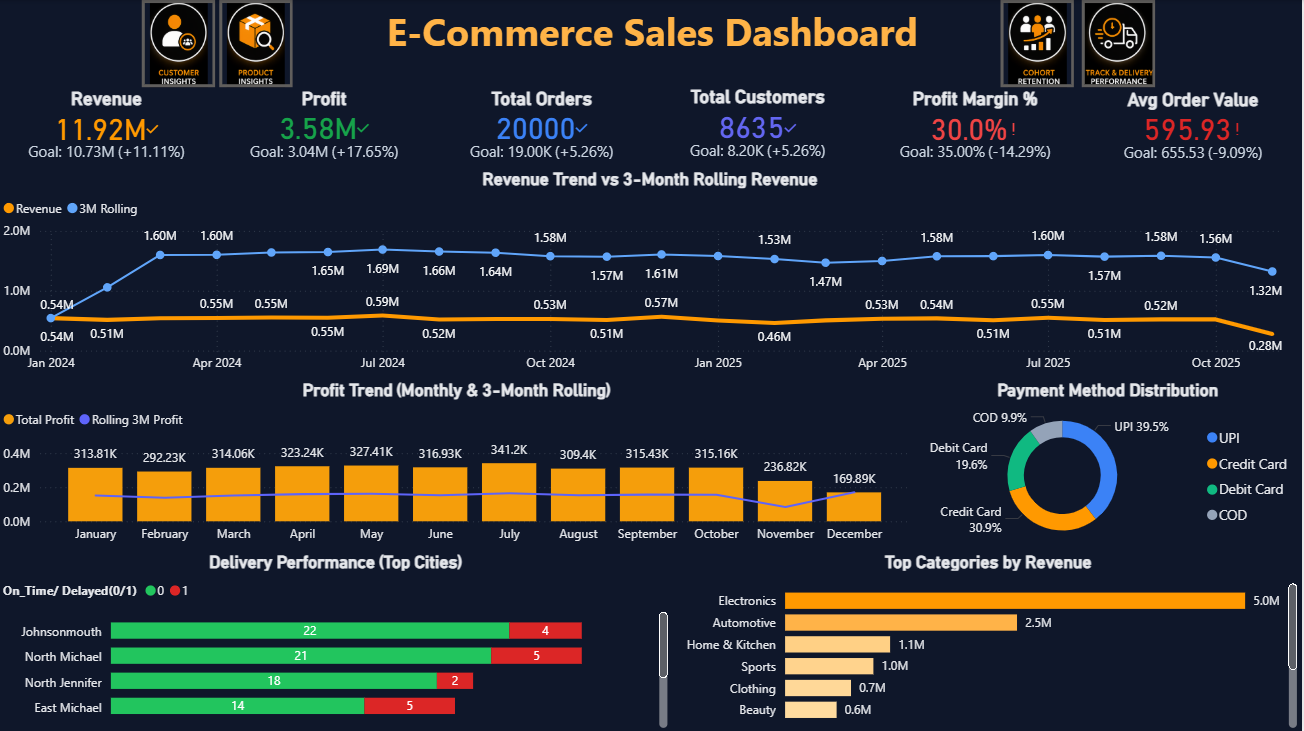

What the dashboard file says about the page in this screenshot:
{"tool":"powerbi","page":{"name":"OVERVIEW / EXECUTIVE SUMMARY","canvas":[1280,720],"ordinal":0},"visuals":[{"type":"kpi","title":"Revenue","fields":{"Goal":["All Measures Table.Revenue Target"],"Indicator":["All Measures Table.Total Revenue"],"TrendLine":["rolling_metrics.order_month"]},"box":[0,85.7,213,79.6],"z":0},{"type":"kpi","title":"Profit","fields":{"Goal":["All Measures Table.Profit Target"],"Indicator":["All Measures Table.Total Profit"],"TrendLine":["rolling_metrics.order_month"]},"box":[213.5,85.7,213.5,78.4],"z":1000},{"type":"kpi","title":"Total Orders","fields":{"Goal":["All Measures Table.Orders Target"],"Indicator":["All Measures Table.Total Orders"],"TrendLine":["rolling_metrics.order_month"]},"box":[427.1,85.7,213.5,78.4],"z":2000},{"type":"kpi","title":"Total Customers","fields":{"Goal":["All Measures Table.Customers Target"],"Indicator":["All Measures Table.Total Customers"],"TrendLine":["rolling_metrics.order_month"]},"box":[639.4,84.5,213,79.6],"z":3000},{"type":"kpi","title":"Profit Margin %","fields":{"Goal":["All Measures Table.Margin Target"],"Indicator":["All Measures Table.Profit Margin %"],"TrendLine":["rolling_metrics.order_month"]},"box":[853,85.7,213,79.6],"z":4000},{"type":"kpi","title":"Avg Order Value","fields":{"Goal":["All Measures Table.AOV Target"],"Indicator":["All Measures Table.Avg Order Value"],"TrendLine":["rolling_metrics.order_month"]},"box":[1066.5,86.9,213.5,78.4],"z":5000},{"type":"lineChart","title":"Revenue Trend vs 3-Month Rolling Revenue","fields":{"Category":["rolling_metrics.order_month"],"Y":["Sum(rolling_metrics.total_revenue)","Sum(rolling_metrics.rolling_3m_revenue)"]},"box":[0,165.3,1280,208.7],"z":6000},{"type":"lineClusteredColumnComboChart","title":"Profit Trend (Monthly & 3-Month Rolling)","fields":{"Category":["fact_sales.order_date.Variation.Date Hierarchy.Month"],"Y":["All Measures Table.Total Profit"],"Y2":["All Measures Table.Rolling 3M Profit"]},"box":[0,372.8,900,168.9],"z":7000},{"type":"donutChart","title":"Payment Method Distribution","fields":{"Category":["fact_sales.payment_method"],"Y":["All Measures Table.Total Revenue"]},"box":[900,372.8,380,168.9],"z":8000},{"type":"barChart","title":"Delivery Performance (Top Cities) ","fields":{"Category":["customer_upgrade.city"],"Series":["fact_sales.delayed"],"Y":["All Measures Table.Total Orders"]},"box":[0,541.7,662.3,178.6],"z":9000},{"type":"clusteredBarChart","title":"Top Categories by Revenue","fields":{"Category":["fact_sales.category"],"Y":["All Measures Table.Total Revenue"]},"box":[663.5,541.7,616.5,178.6],"z":10000},{"type":"textbox","box":[293.2,0,687.7,85.7],"z":11000},{"type":"image","box":[141.2,0,72.4,85.7],"z":14000},{"type":"image","box":[213.5,0,79.6,85.7],"z":15000},{"type":"image","box":[980.8,0,79.6,85.7],"z":16000},{"type":"image","box":[1060.5,0,79.6,85.7],"z":17000},{"type":"actionButton","box":[141.2,0,72.4,85.7],"z":18000},{"type":"actionButton","box":[217.2,0,72.4,85.7],"z":19000},{"type":"actionButton","box":[984.5,0,72.4,85.7],"z":20000},{"type":"actionButton","box":[1064.1,0,72.4,85.7],"z":21000}]}

Visuals, with their boxes in screenshot pixels (x1, y1, x2, y2), scaled from the page's 1280x720 canvas onto the 1304x731 screenshot:
"Revenue" kpi: (left=0, top=87, right=217, bottom=168)
"Profit" kpi: (left=218, top=87, right=435, bottom=167)
"Total Orders" kpi: (left=435, top=87, right=653, bottom=167)
"Total Customers" kpi: (left=651, top=86, right=868, bottom=167)
"Profit Margin %" kpi: (left=869, top=87, right=1086, bottom=168)
"Avg Order Value" kpi: (left=1086, top=88, right=1303, bottom=168)
"Revenue Trend vs 3-Month Rolling Revenue" lineChart: (left=0, top=168, right=1303, bottom=380)
"Profit Trend (Monthly & 3-Month Rolling)" lineClusteredColumnComboChart: (left=0, top=378, right=917, bottom=550)
"Payment Method Distribution" donutChart: (left=917, top=378, right=1303, bottom=550)
"Delivery Performance (Top Cities) " barChart: (left=0, top=550, right=675, bottom=730)
"Top Categories by Revenue" clusteredBarChart: (left=676, top=550, right=1303, bottom=730)
textbox: (left=299, top=0, right=999, bottom=87)
image: (left=144, top=0, right=218, bottom=87)
image: (left=218, top=0, right=299, bottom=87)
image: (left=999, top=0, right=1080, bottom=87)
image: (left=1080, top=0, right=1161, bottom=87)
actionButton: (left=144, top=0, right=218, bottom=87)
actionButton: (left=221, top=0, right=295, bottom=87)
actionButton: (left=1003, top=0, right=1077, bottom=87)
actionButton: (left=1084, top=0, right=1158, bottom=87)
